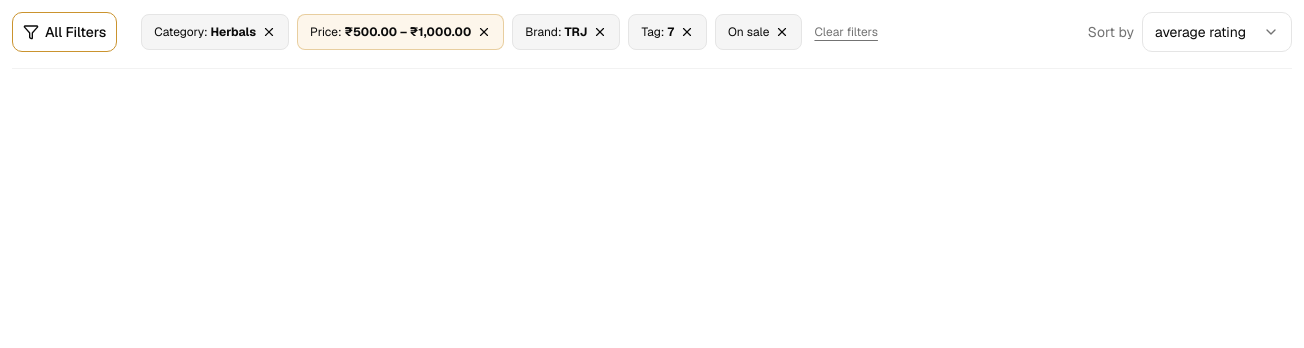
Test: ShopSortBar sort state and navigation › keeps an option mounted through inside mousedown and closes on selection
The image size is (1304, 348).
Click the button with aria-label "Sort products" at (1217, 32), box left=1142, top=12, right=1292, bottom=52
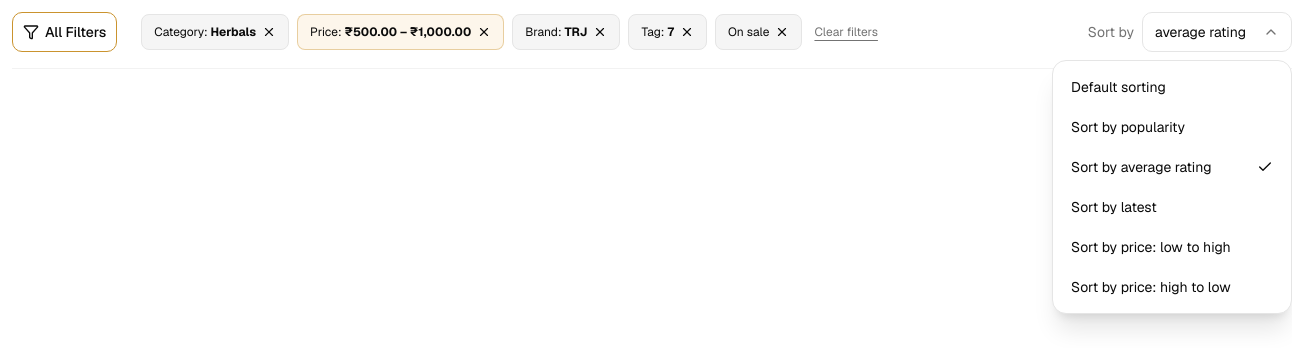
Press the mouse on the menu item "Sort by popularity" at (1128, 127), box left=1071, top=118, right=1185, bottom=136
Expected: the menu item "Sort by popularity" is shown
Click the menu item "Sort by popularity" at (1128, 127), box left=1071, top=118, right=1185, bottom=136
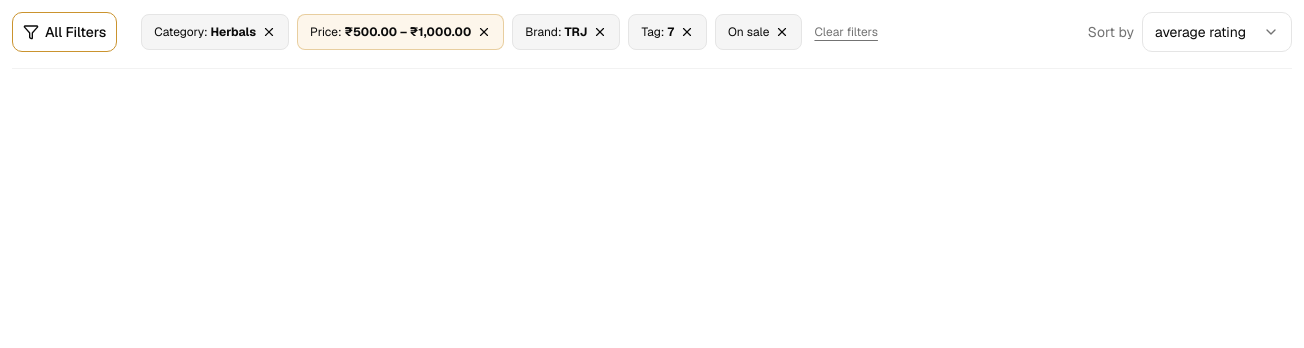
Expected: the menu is gone
